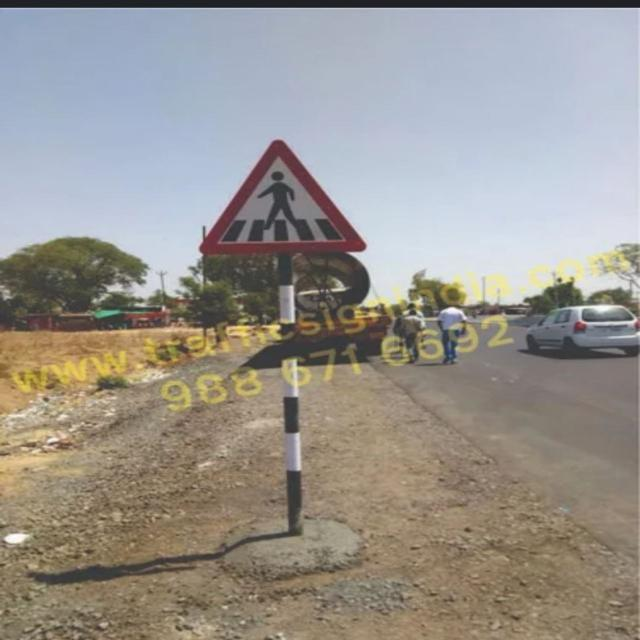pedestrian crossing: (197, 137, 370, 257)
